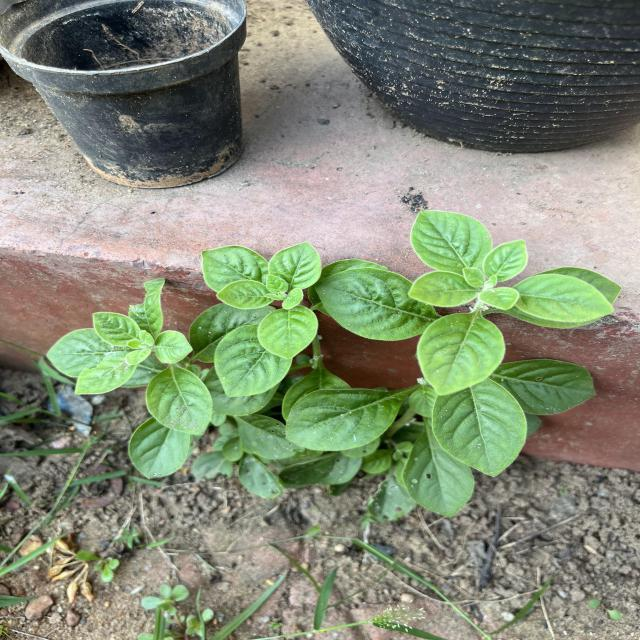Aerva lanata: (431, 379, 530, 479), (310, 266, 424, 343), (280, 386, 405, 452), (415, 312, 508, 397), (410, 206, 496, 276), (145, 364, 218, 439), (516, 272, 616, 324), (256, 305, 318, 360), (407, 269, 477, 309), (268, 240, 322, 290), (214, 277, 274, 312), (90, 311, 143, 348), (479, 286, 521, 314)
